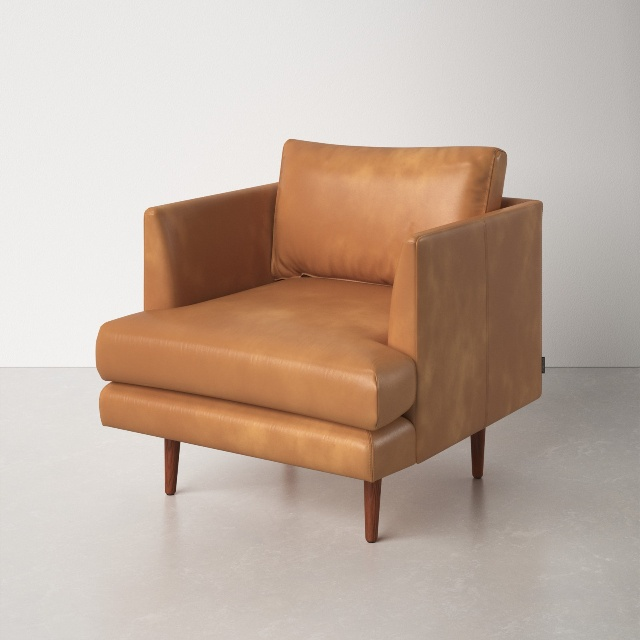obstacle: (96, 140, 542, 542)
